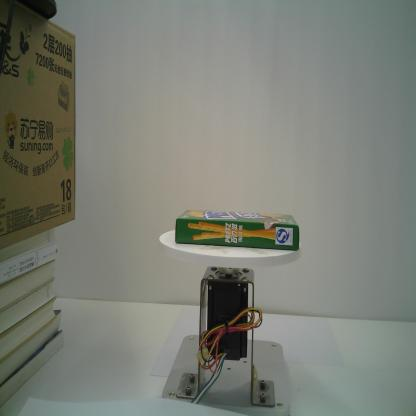Dessert: (173, 209, 300, 254)
